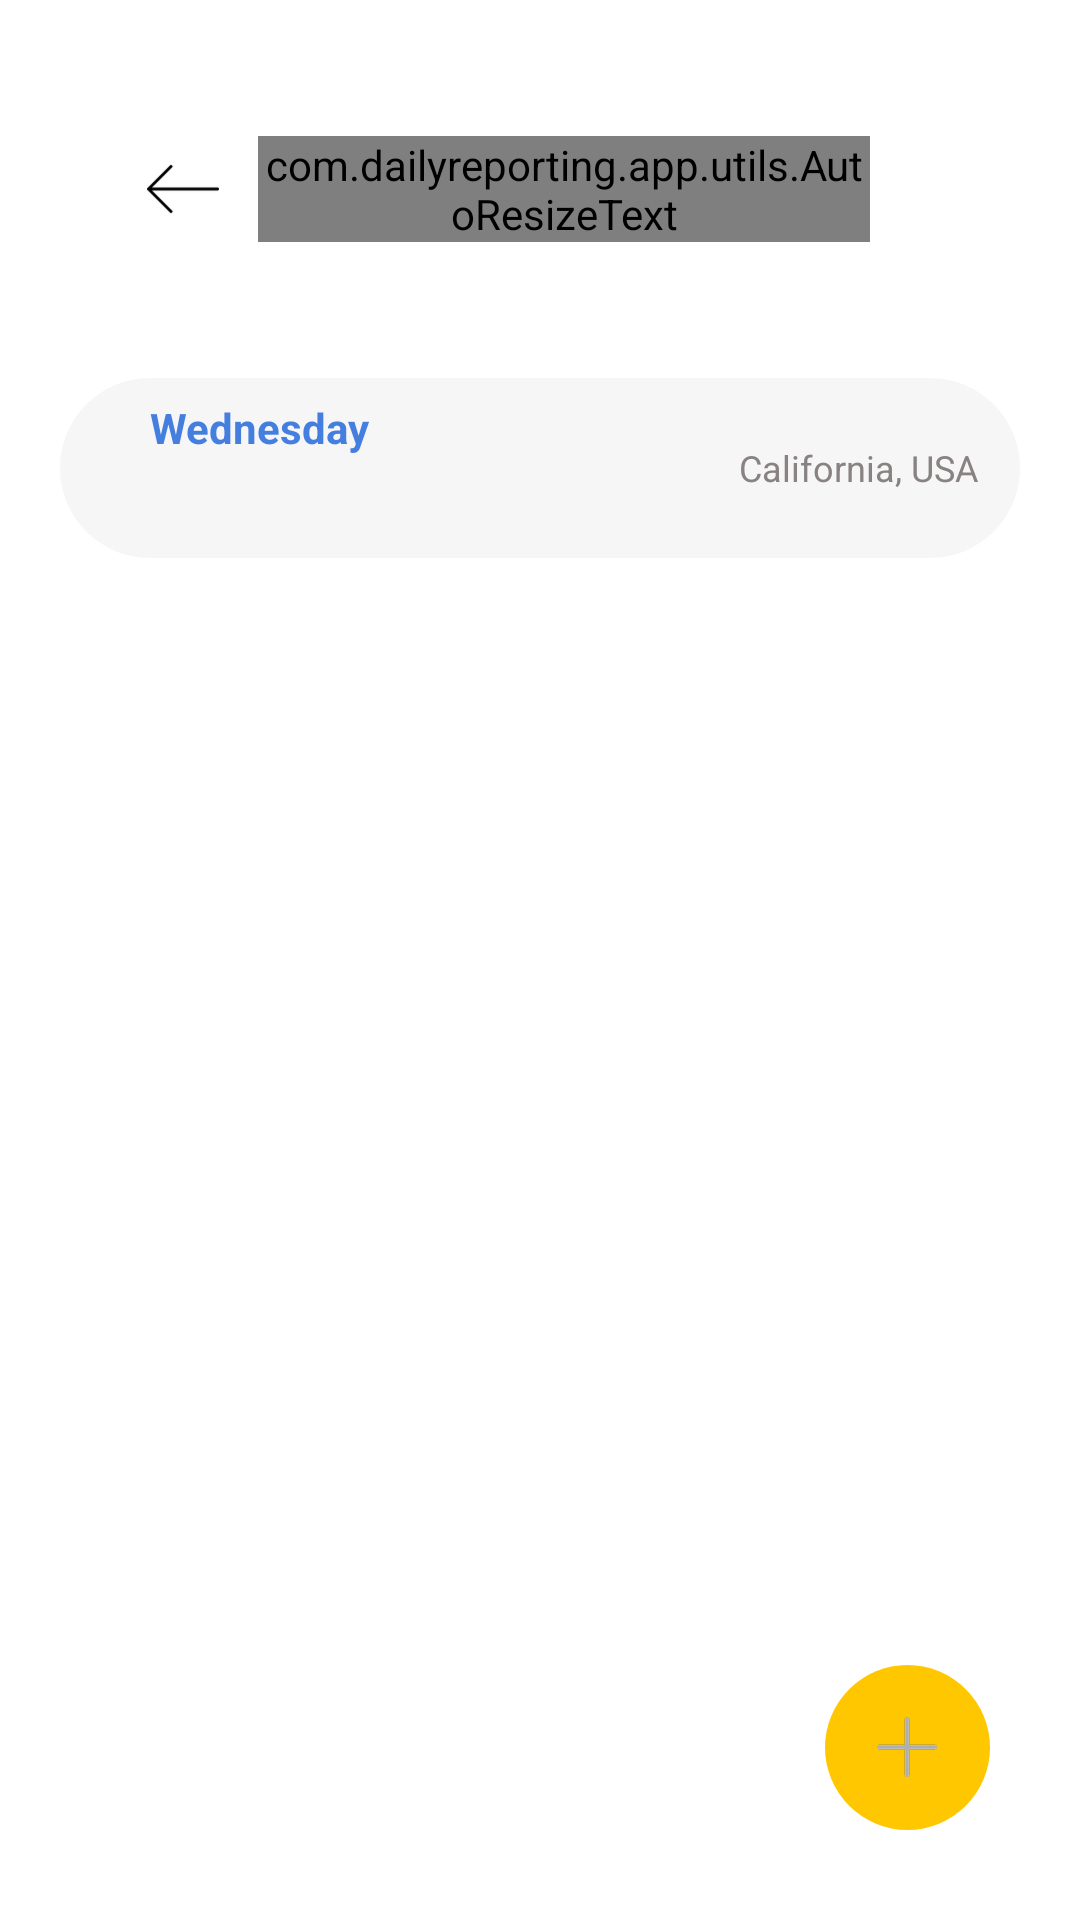

Icons on this 1080px x 1920px Android screen, each with the point to tap as point (x, y):
add: point (907, 1747)
backarrow: point (183, 189)
